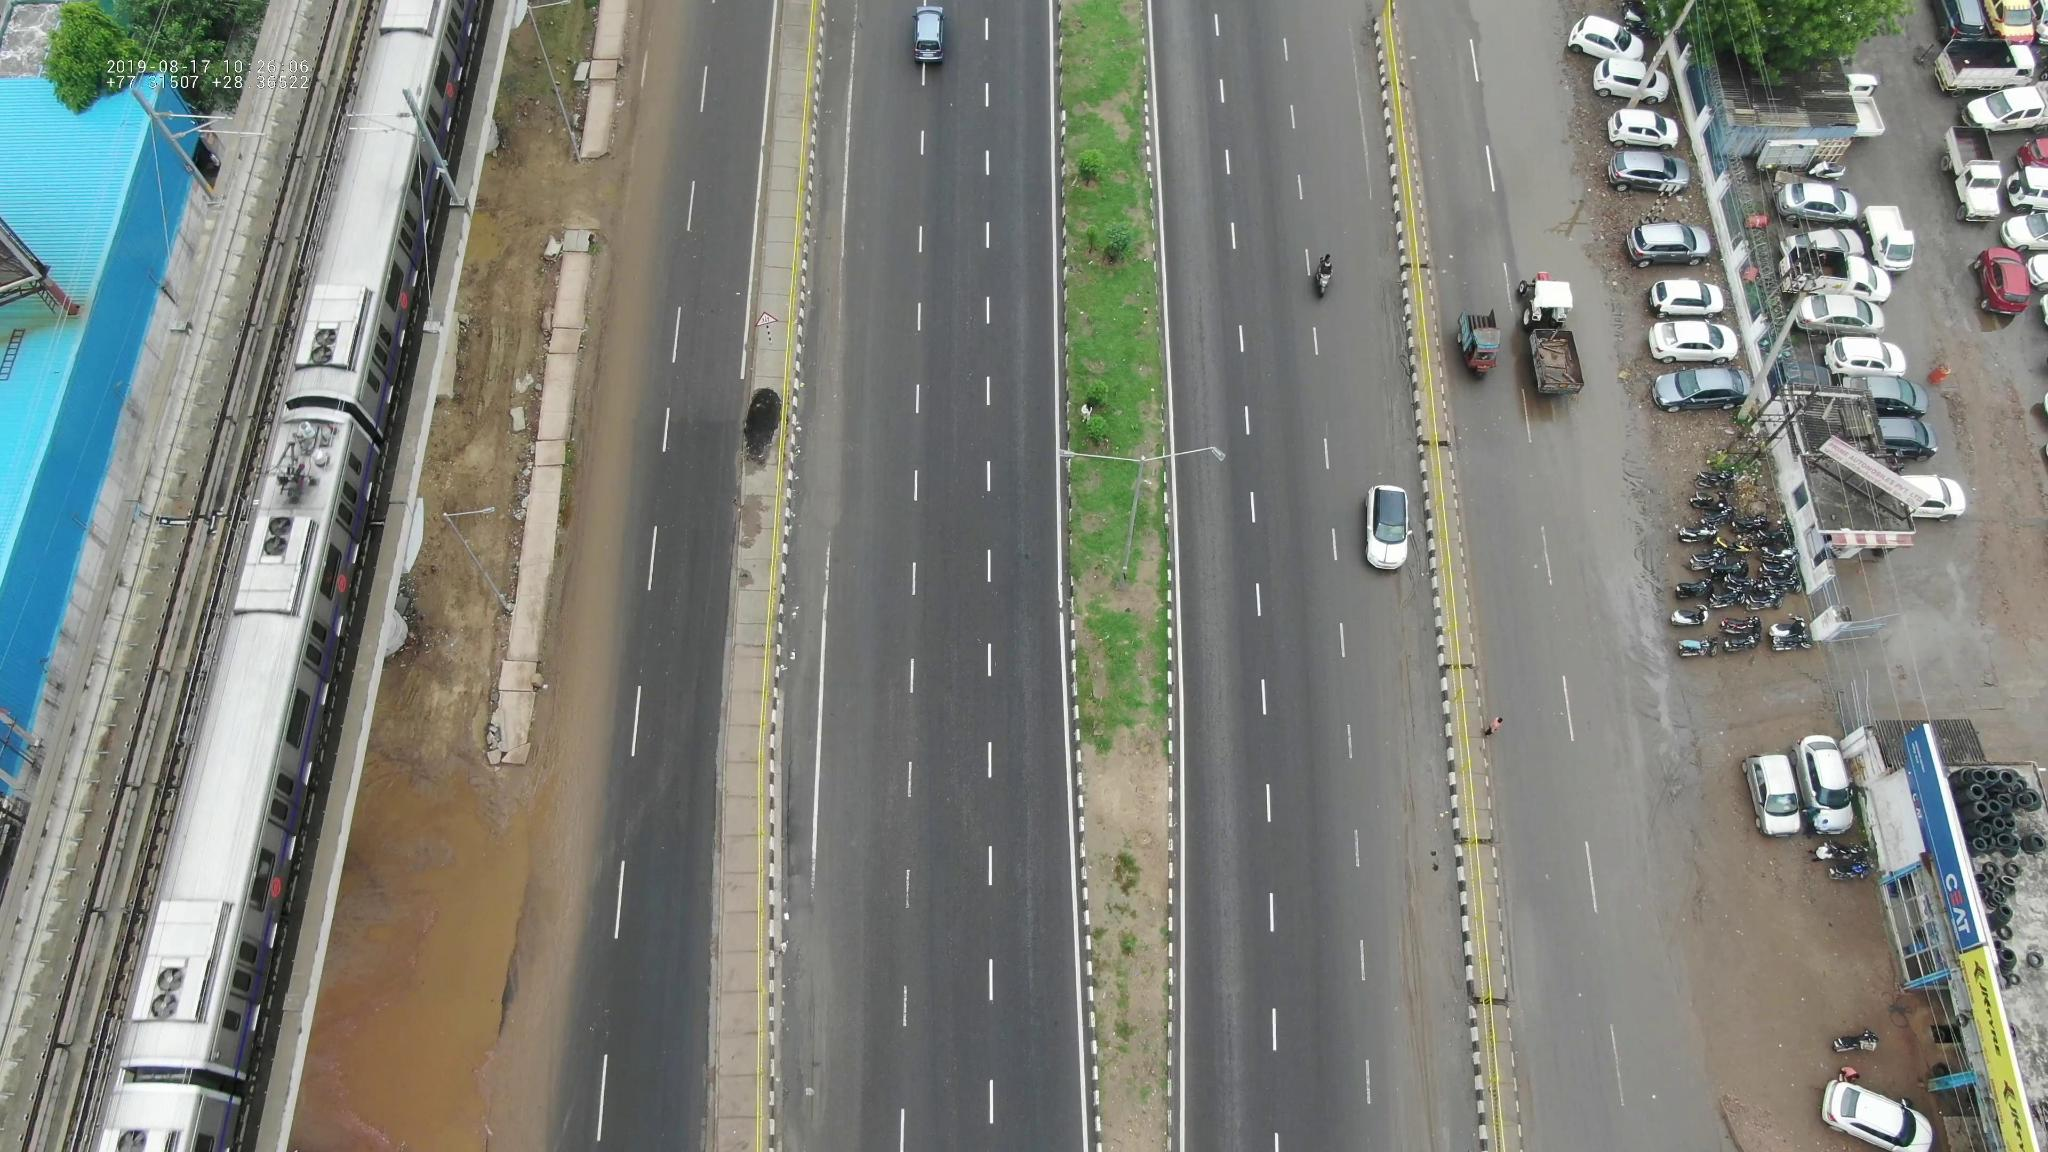Muddy_road: (1376, 755, 1468, 1115), (505, 751, 587, 1063), (544, 489, 610, 731), (572, 279, 647, 478), (602, 124, 660, 266)
Waterlogging: (1468, 8, 1599, 255), (1581, 423, 1677, 695)
